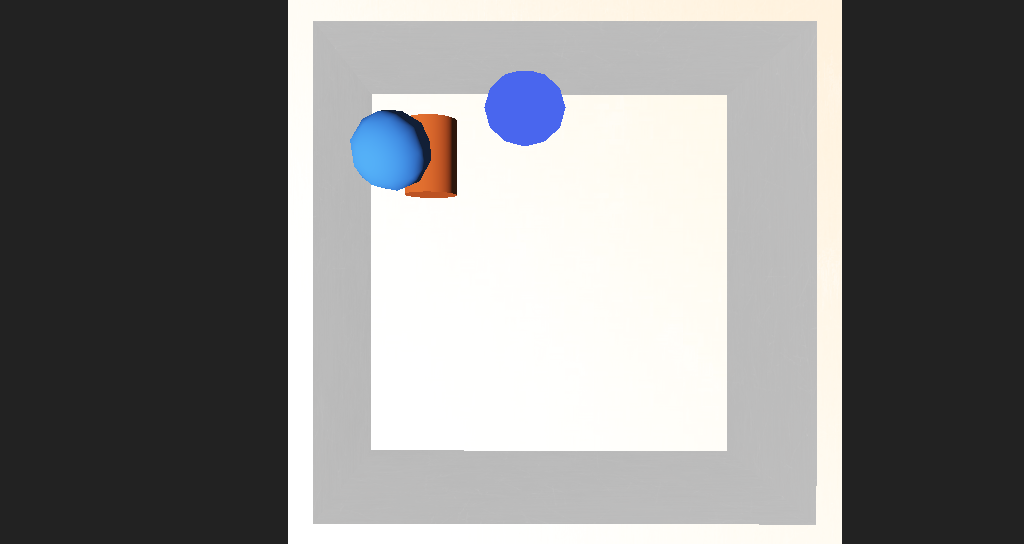cone: (377, 174, 431, 227)
cylinder: (455, 148, 515, 205)
sphere: (337, 172, 404, 220)
